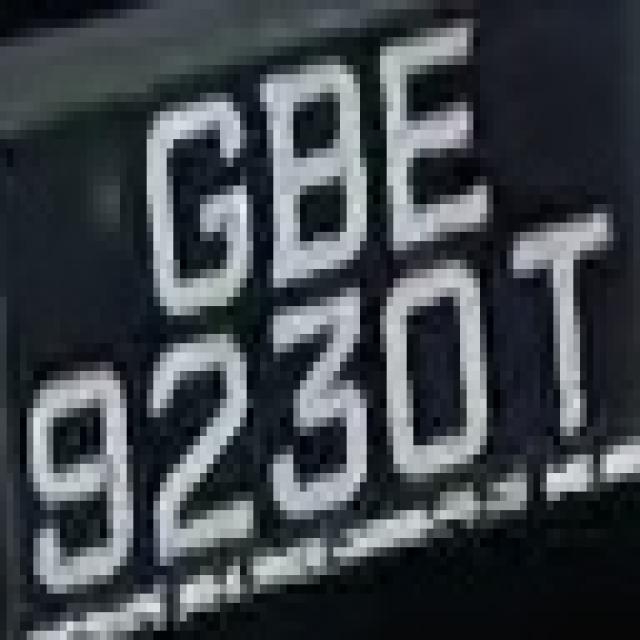0: (353, 241, 500, 510)
2: (153, 334, 267, 594)
3: (267, 278, 373, 520)
9: (7, 324, 140, 630)
B: (253, 28, 380, 297)
E: (360, 28, 493, 250)
G: (113, 83, 247, 324)
T: (487, 204, 620, 455)
